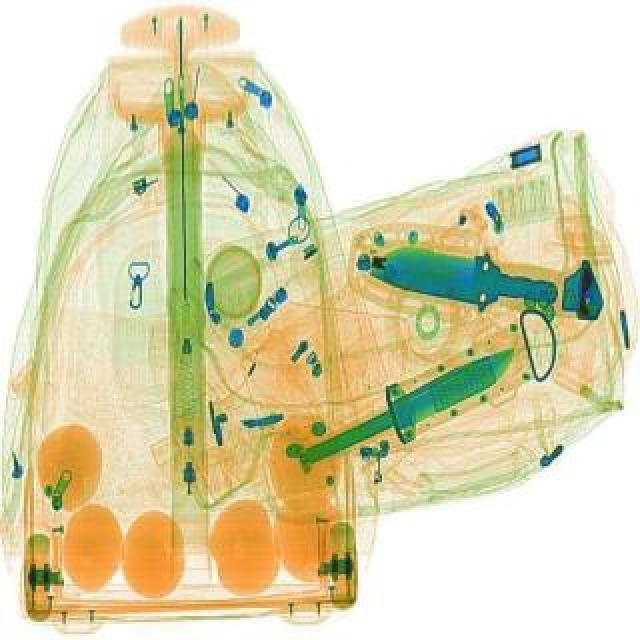knife: (294, 336, 526, 472), (366, 236, 562, 316)
